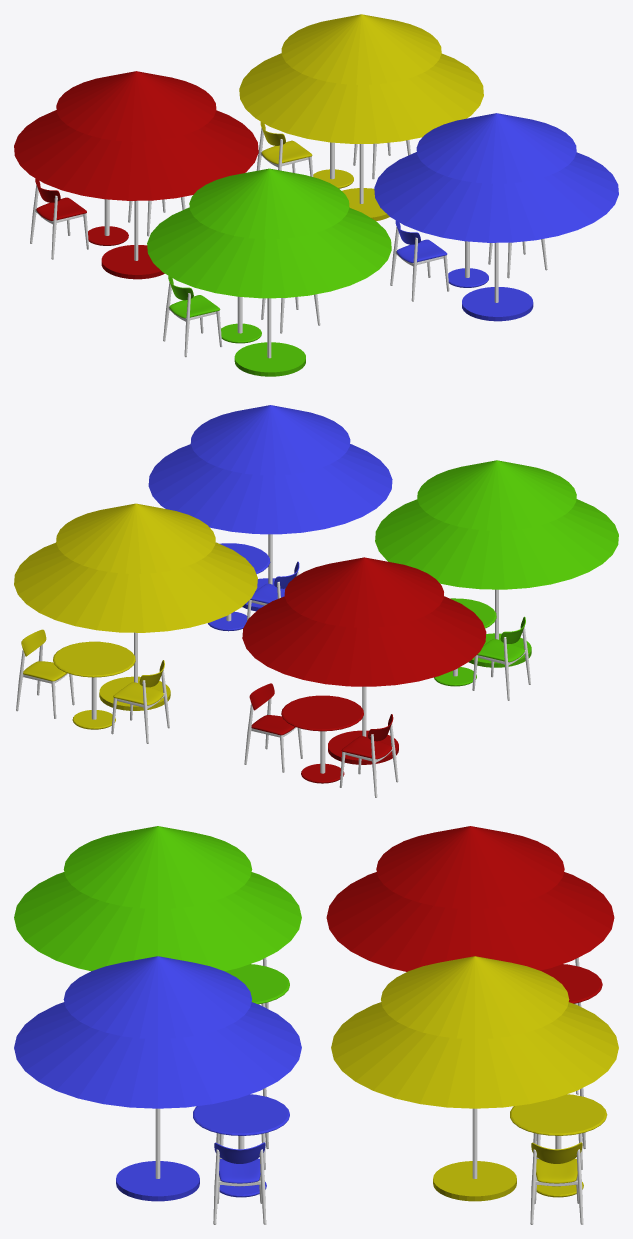
Rendered from 3d_patio_furniture_set_with_umbrellas.glb.
The picture shows the model from 3 angles, top to bottom: view 1: azimuth 30°, elevation 25°; view 2: azimuth 150°, elevation 25°; view 3: azimuth 270°, elevation 25°; orthographic projection. The views are drawn at different scales.
Parts seen in each view (by area): view 1: Cone.002_16, Cone.003_25, Cone.004_34, Cone.001_4, Cylinder.006_1, Chair-3_12, Chair-3.005_9, Chair-3.003_10, Chair-3.015_20, Chair-3.014_29; view 2: Cone.004_34, Cone.002_16, Cone.003_25, Cone.001_4, Chair-3.005_9, Chair-3.006_8, Chair-3_12, Cylinder.006_1, Chair-3.021_38, Chair-3.003_10, Chair-3.015_20, Chair-3.020_37 (+1 smaller); view 3: Cone.003_25, Cone.004_34, Cone.002_16, Cone.001_4, Chair-3.005_9, Chair-3.013_28, Chair-3.020_37.
Boxes of the visible parts, x1=… form: Cone.002_16: x1=147, y1=168, x2=391, y2=376; Cone.003_25: x1=374, y1=113, x2=618, y2=321; Cone.004_34: x1=239, y1=14, x2=483, y2=221; Cone.001_4: x1=14, y1=71, x2=258, y2=200; Cylinder.006_1: x1=101, y1=245, x2=164, y2=279; Chair-3_12: x1=35, y1=178, x2=86, y2=220; Chair-3.005_9: x1=88, y1=226, x2=128, y2=245; Chair-3.003_10: x1=30, y1=185, x2=88, y2=259; Chair-3.015_20: x1=163, y1=282, x2=222, y2=357; Chair-3.014_29: x1=390, y1=227, x2=449, y2=301; Cone.004_34: x1=14, y1=503, x2=257, y2=729; Cone.002_16: x1=375, y1=460, x2=618, y2=686; Cone.003_25: x1=148, y1=405, x2=392, y2=631; Cone.001_4: x1=242, y1=557, x2=486, y2=686; Chair-3.005_9: x1=281, y1=695, x2=363, y2=783; Chair-3.006_8: x1=249, y1=683, x2=295, y2=735; Chair-3_12: x1=341, y1=714, x2=393, y2=759; Cylinder.006_1: x1=328, y1=730, x2=398, y2=764; Chair-3.021_38: x1=111, y1=669, x2=169, y2=743; Chair-3.003_10: x1=339, y1=723, x2=398, y2=797; Chair-3.015_20: x1=472, y1=626, x2=530, y2=700; Chair-3.020_37: x1=16, y1=644, x2=74, y2=718; Cone.003_25: x1=14, y1=956, x2=301, y2=1201; Cone.004_34: x1=331, y1=956, x2=618, y2=1201; Cone.002_16: x1=14, y1=826, x2=301, y2=1004; Cone.001_4: x1=326, y1=826, x2=614, y2=971; Chair-3.005_9: x1=540, y1=964, x2=602, y2=1003; Chair-3.013_28: x1=213, y1=1149, x2=266, y2=1224; Chair-3.020_37: x1=530, y1=1149, x2=583, y2=1224.
Size of the model in its own units: 117 by 49.13 by 119.
